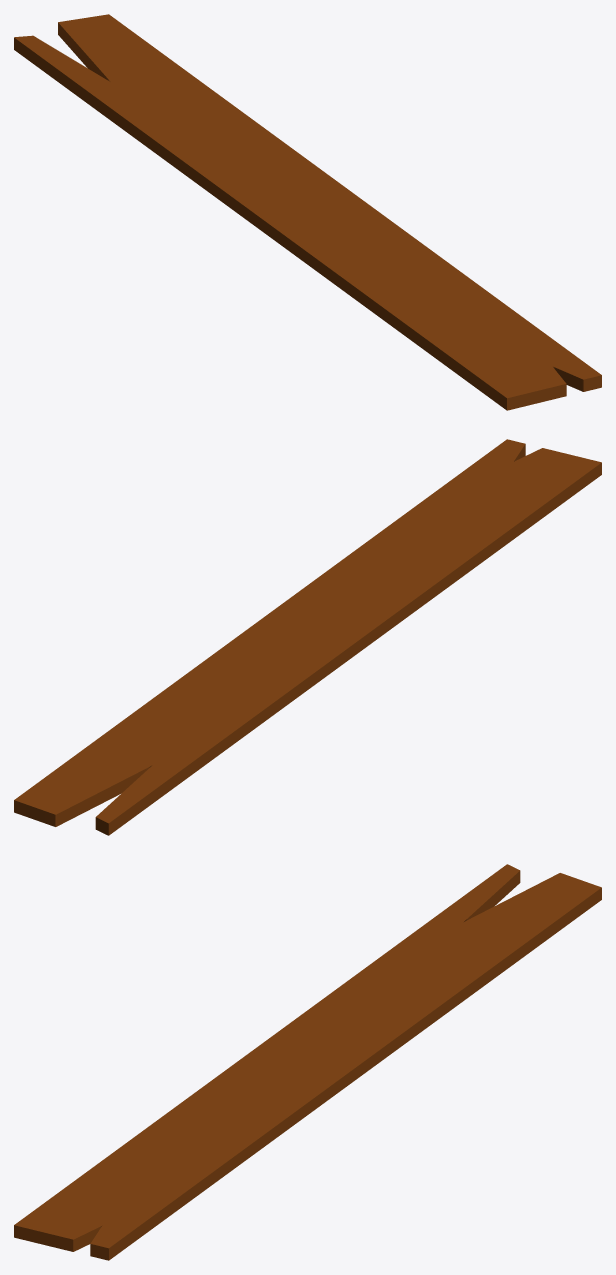
File: woodPlank.fbx
3 views of the same model, one above another, from view 1: azimuth 30°, elevation 25°; view 2: azimuth 150°, elevation 25°; view 3: azimuth 330°, elevation 25° (orthographic).
Parts seen in each view (by area): view 1: plank_Wood_; view 2: plank_Wood_; view 3: plank_Wood_.
Boxes of the visible parts, x1,y1,x2,y2 form: plank_Wood_: (14, 14, 601, 410); plank_Wood_: (14, 439, 601, 835); plank_Wood_: (14, 864, 601, 1260).
Size of the model in its own units: 2 by 0.25 by 18.16.
1 material, 1 textured.
